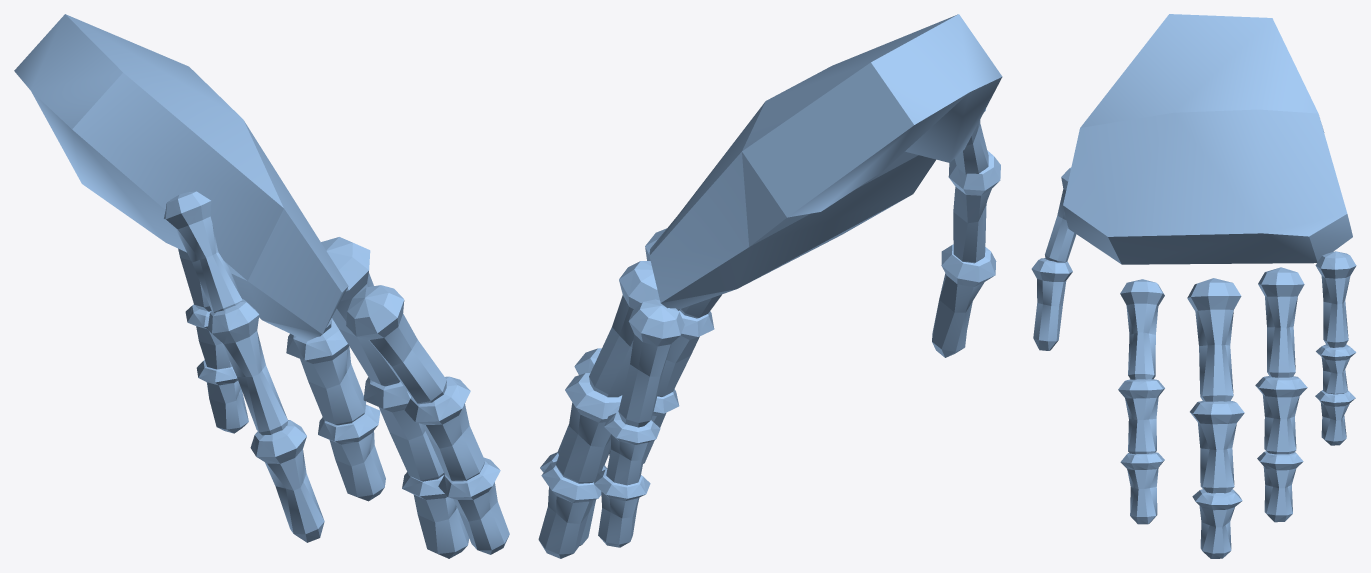
The model's file is hand.dae.
3 views of the same model, side by side, from view 1: azimuth 30°, elevation 25°; view 2: azimuth 150°, elevation 25°; view 3: azimuth 270°, elevation 25° (orthographic). The views are drawn at different scales.
Parts seen in each view (by area): view 1: L_Hand, L_Finger1, L_Finger01, L_Finger31, L_Finger02, L_Finger11, L_Finger0, L_Finger32, L_Finger2, L_Finger12, L_Finger21, L_Finger22 (+3 smaller); view 2: L_Hand, L_Finger4, L_Finger31, L_Finger3, L_Finger02, L_Finger32, L_Finger01, L_Finger42, L_Finger41, L_Finger11, L_Finger0, L_Finger12; view 3: L_Hand, L_Finger2, L_Finger21, L_Finger3, L_Finger1, L_Finger31, L_Finger4, L_Finger02, L_Finger11, L_Finger22, L_Finger12, L_Finger32 (+3 smaller).
Boxes of the visible parts, x1,y1,x2,y2 form: L_Hand: [14, 14, 348, 341]; L_Finger1: [346, 285, 446, 403]; L_Finger01: [207, 299, 287, 435]; L_Finger31: [286, 318, 366, 425]; L_Finger02: [250, 420, 324, 542]; L_Finger11: [404, 376, 485, 481]; L_Finger0: [164, 191, 242, 312]; L_Finger32: [318, 404, 385, 501]; L_Finger2: [321, 237, 399, 386]; L_Finger12: [438, 457, 509, 554]; L_Finger21: [363, 377, 444, 481]; L_Finger22: [402, 472, 469, 558]; L_Hand: [649, 14, 1002, 309]; L_Finger4: [618, 299, 684, 427]; L_Finger31: [556, 372, 622, 483]; L_Finger3: [589, 261, 659, 397]; L_Finger02: [932, 244, 996, 357]; L_Finger32: [538, 461, 601, 558]; L_Finger01: [948, 150, 1000, 263]; L_Finger42: [594, 469, 650, 547]; L_Finger41: [604, 412, 660, 485]; L_Finger11: [657, 310, 714, 396]; L_Finger0: [954, 108, 988, 174]; L_Finger12: [609, 389, 679, 463]; L_Hand: [1063, 14, 1352, 264]; L_Finger2: [1187, 278, 1241, 401]; L_Finger21: [1190, 401, 1244, 493]; L_Finger3: [1258, 267, 1304, 377]; L_Finger1: [1120, 279, 1164, 379]; L_Finger31: [1255, 376, 1307, 454]; L_Finger4: [1315, 251, 1356, 347]; L_Finger02: [1031, 258, 1072, 350]; L_Finger11: [1118, 379, 1164, 454]; L_Finger22: [1192, 489, 1242, 558]; L_Finger12: [1120, 452, 1164, 524]; L_Finger32: [1257, 451, 1303, 522].
Bounding box in the file's own units: 0.7164 × 0.6643 × 0.9503.
